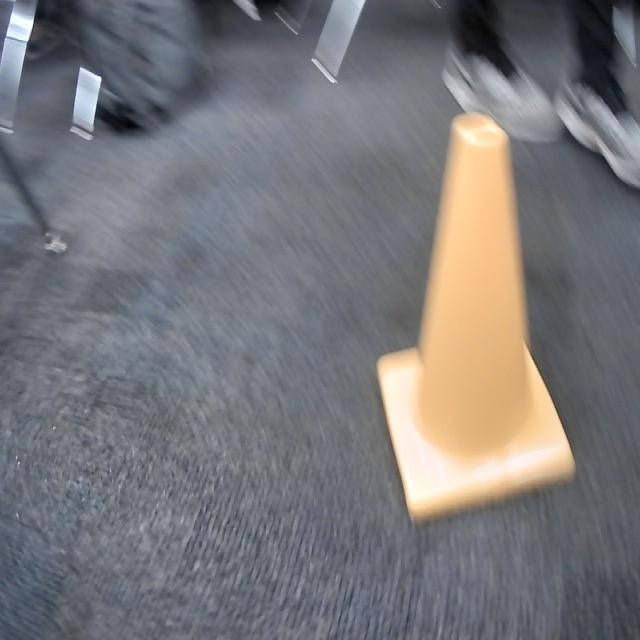cone: (366, 108, 578, 526)
